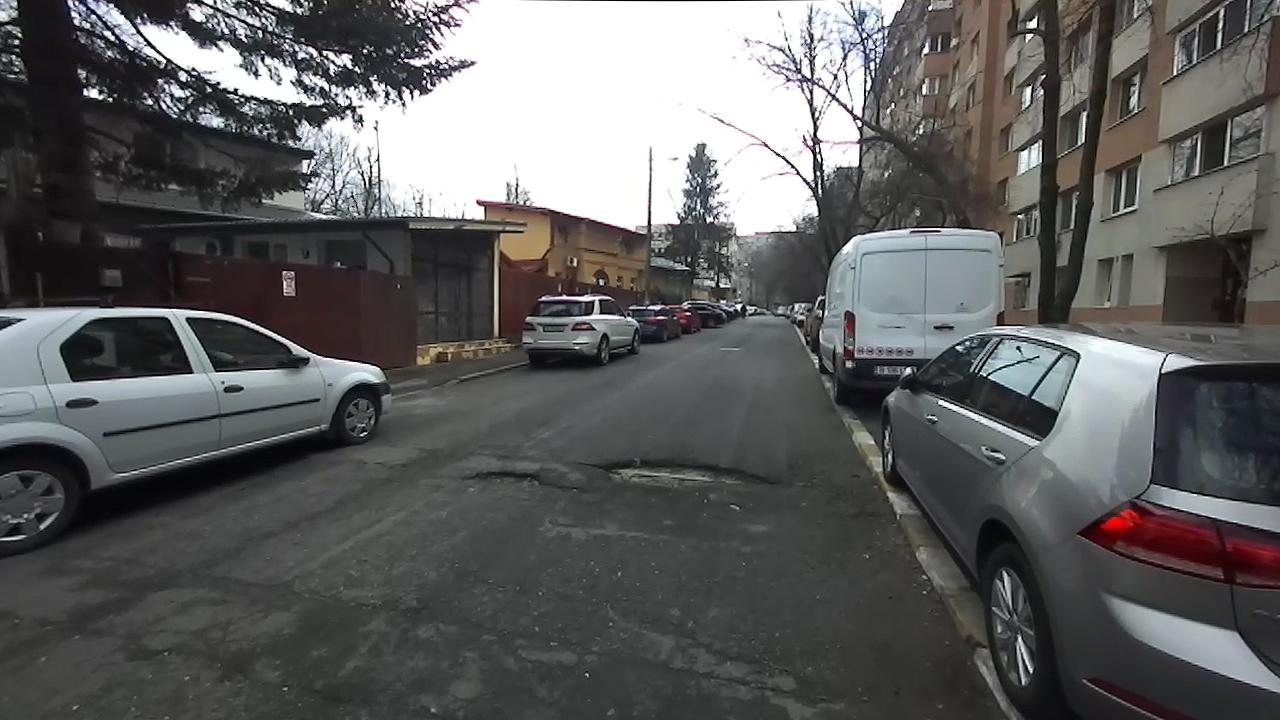pothole: (585, 453, 785, 495), (459, 466, 558, 493)
